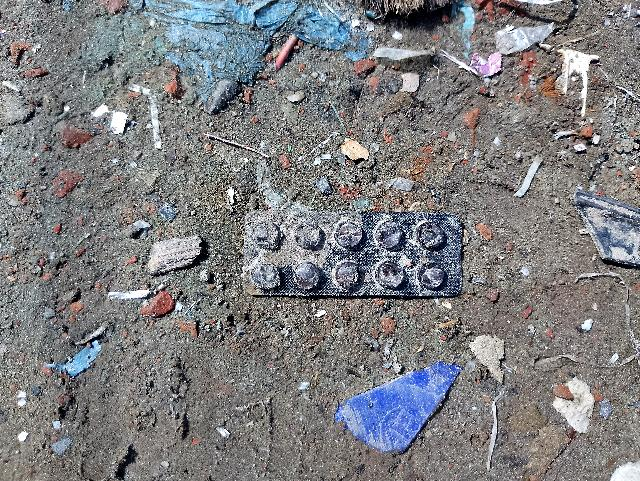medicine: (256, 219, 467, 303)
